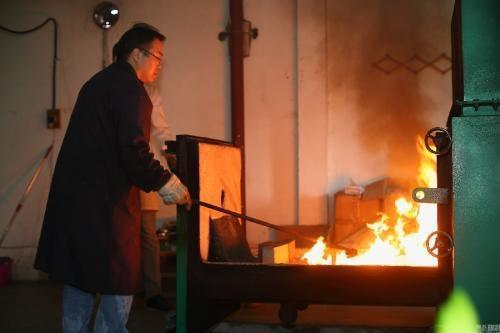fire: (262, 100, 448, 279)
